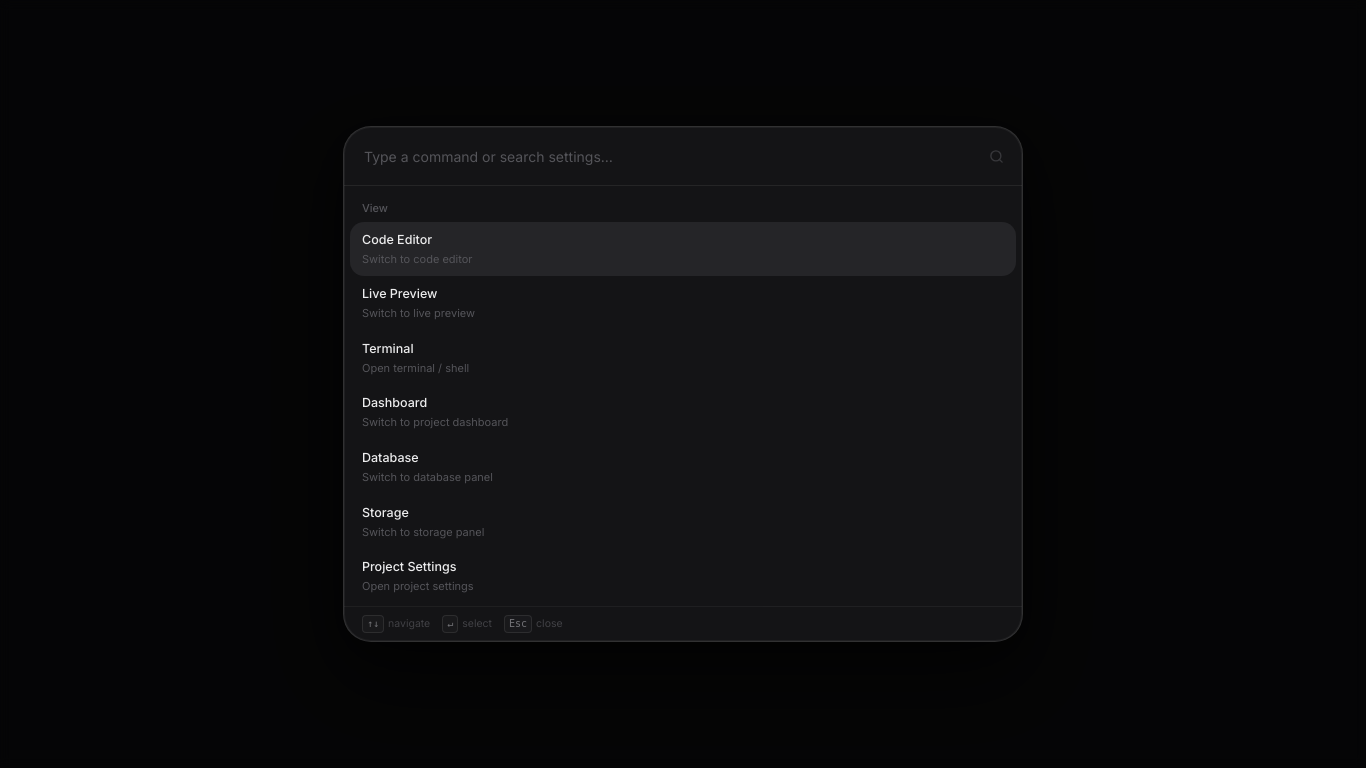
it: SettingsSearch › shows empty state for unmatched query
In the field with test id "ss-input": (672, 156) [364,127,979,185], type "zzzzzzz"
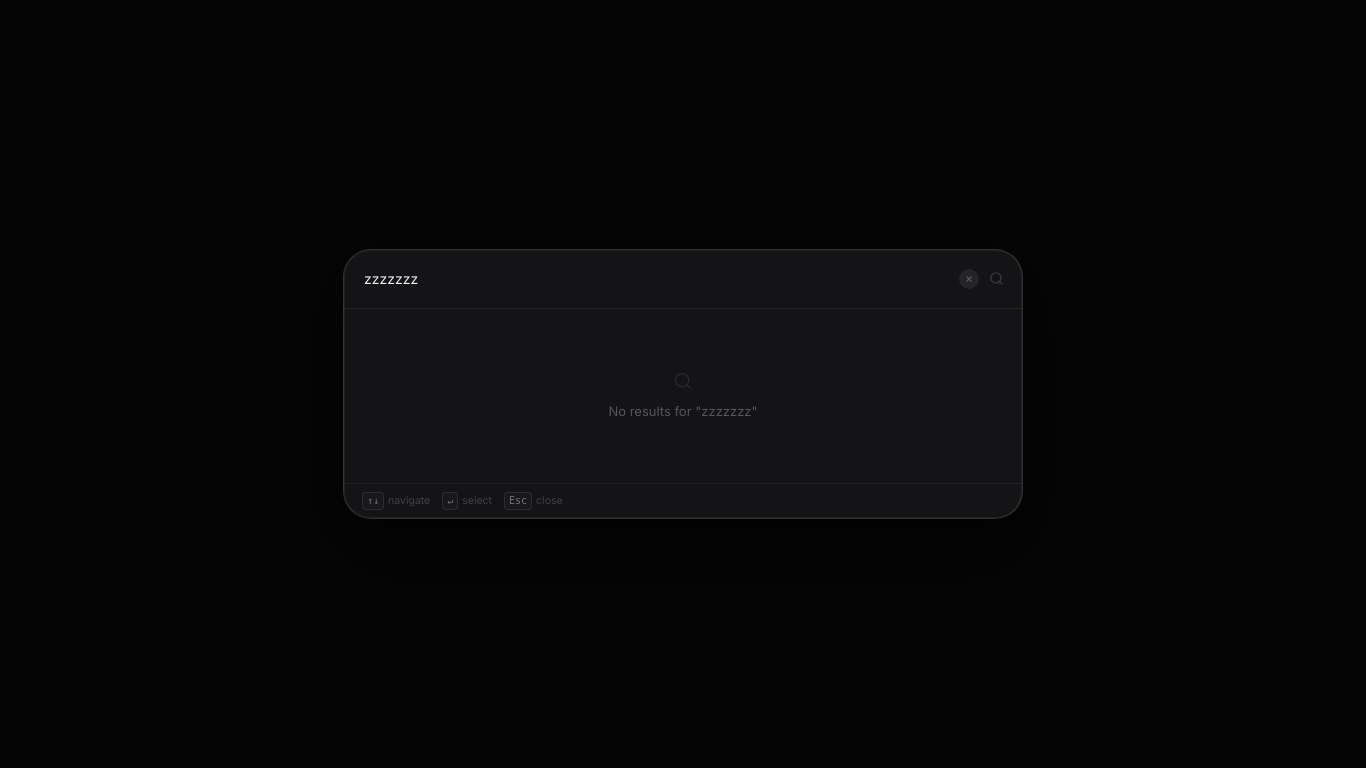
Expected: the element with test id "ss-empty" is shown, [608,371,758,419]
